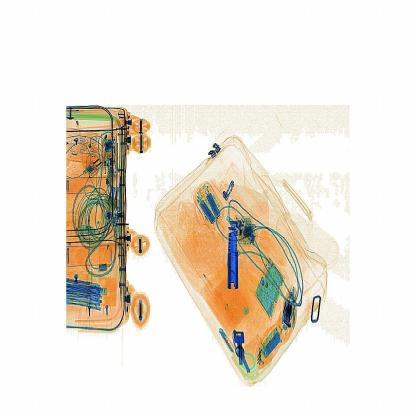pliers: (220, 215, 248, 290)
